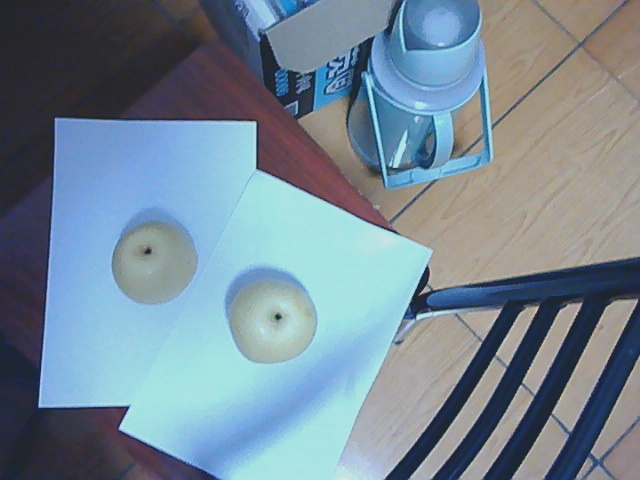pear: (110, 224, 201, 305), (233, 280, 319, 364)
